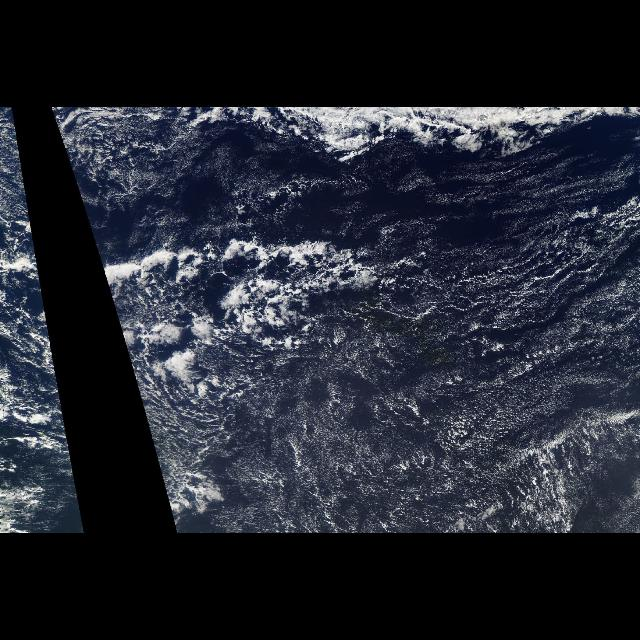Gravel: (88, 149, 424, 395)
Sugar: (237, 147, 639, 528)
